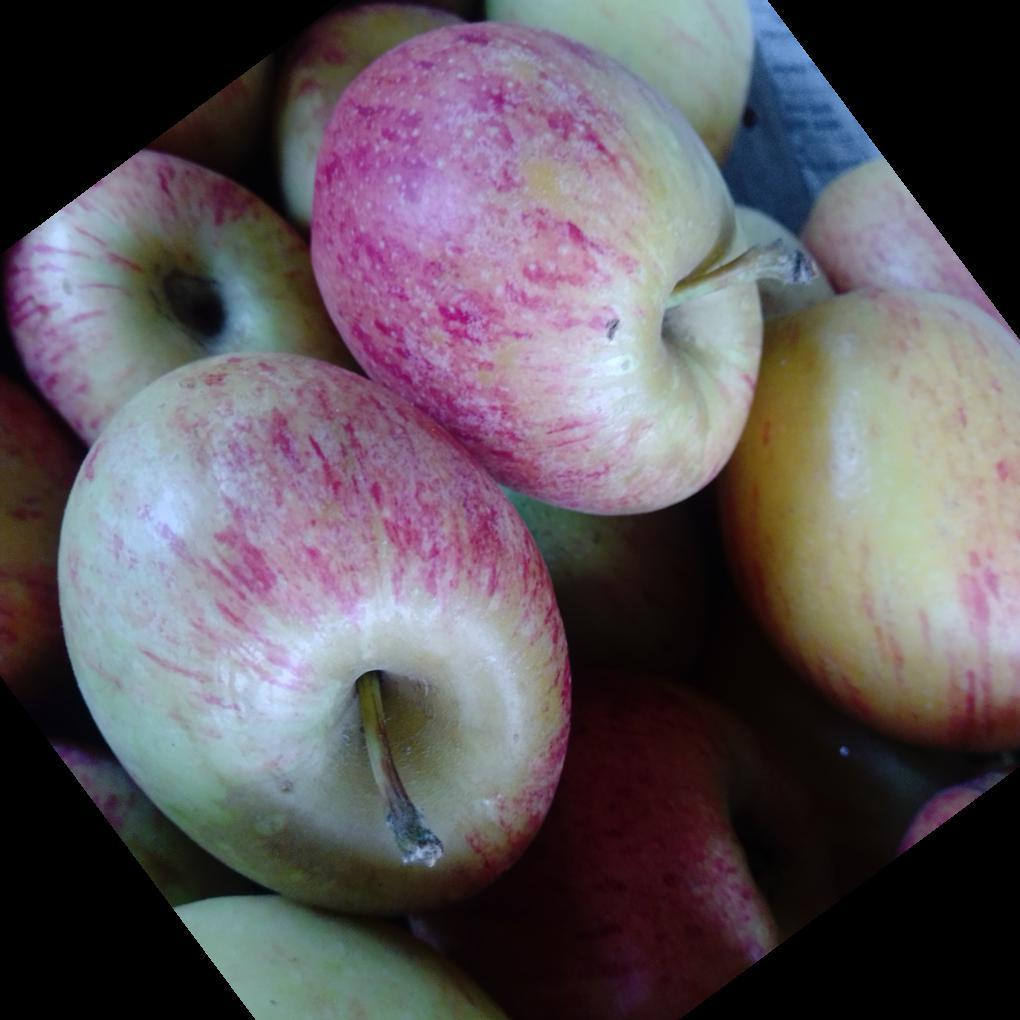FreshGuava: (64, 23, 835, 865)
